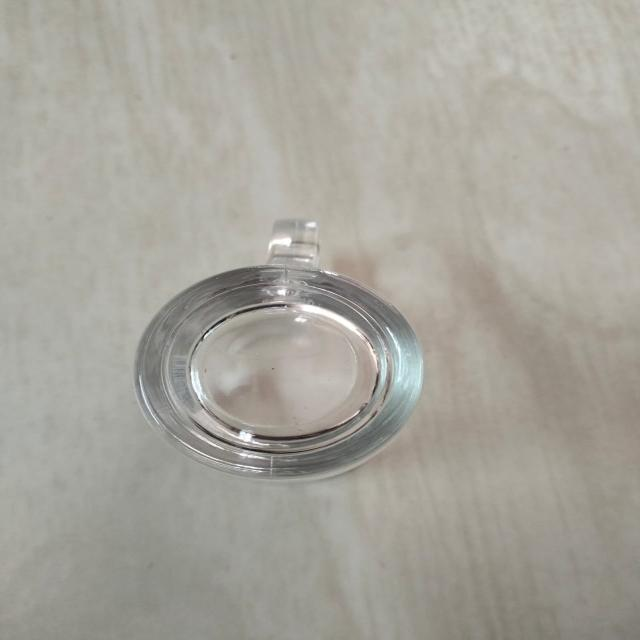glass-VX4N: (121, 213, 444, 488)
